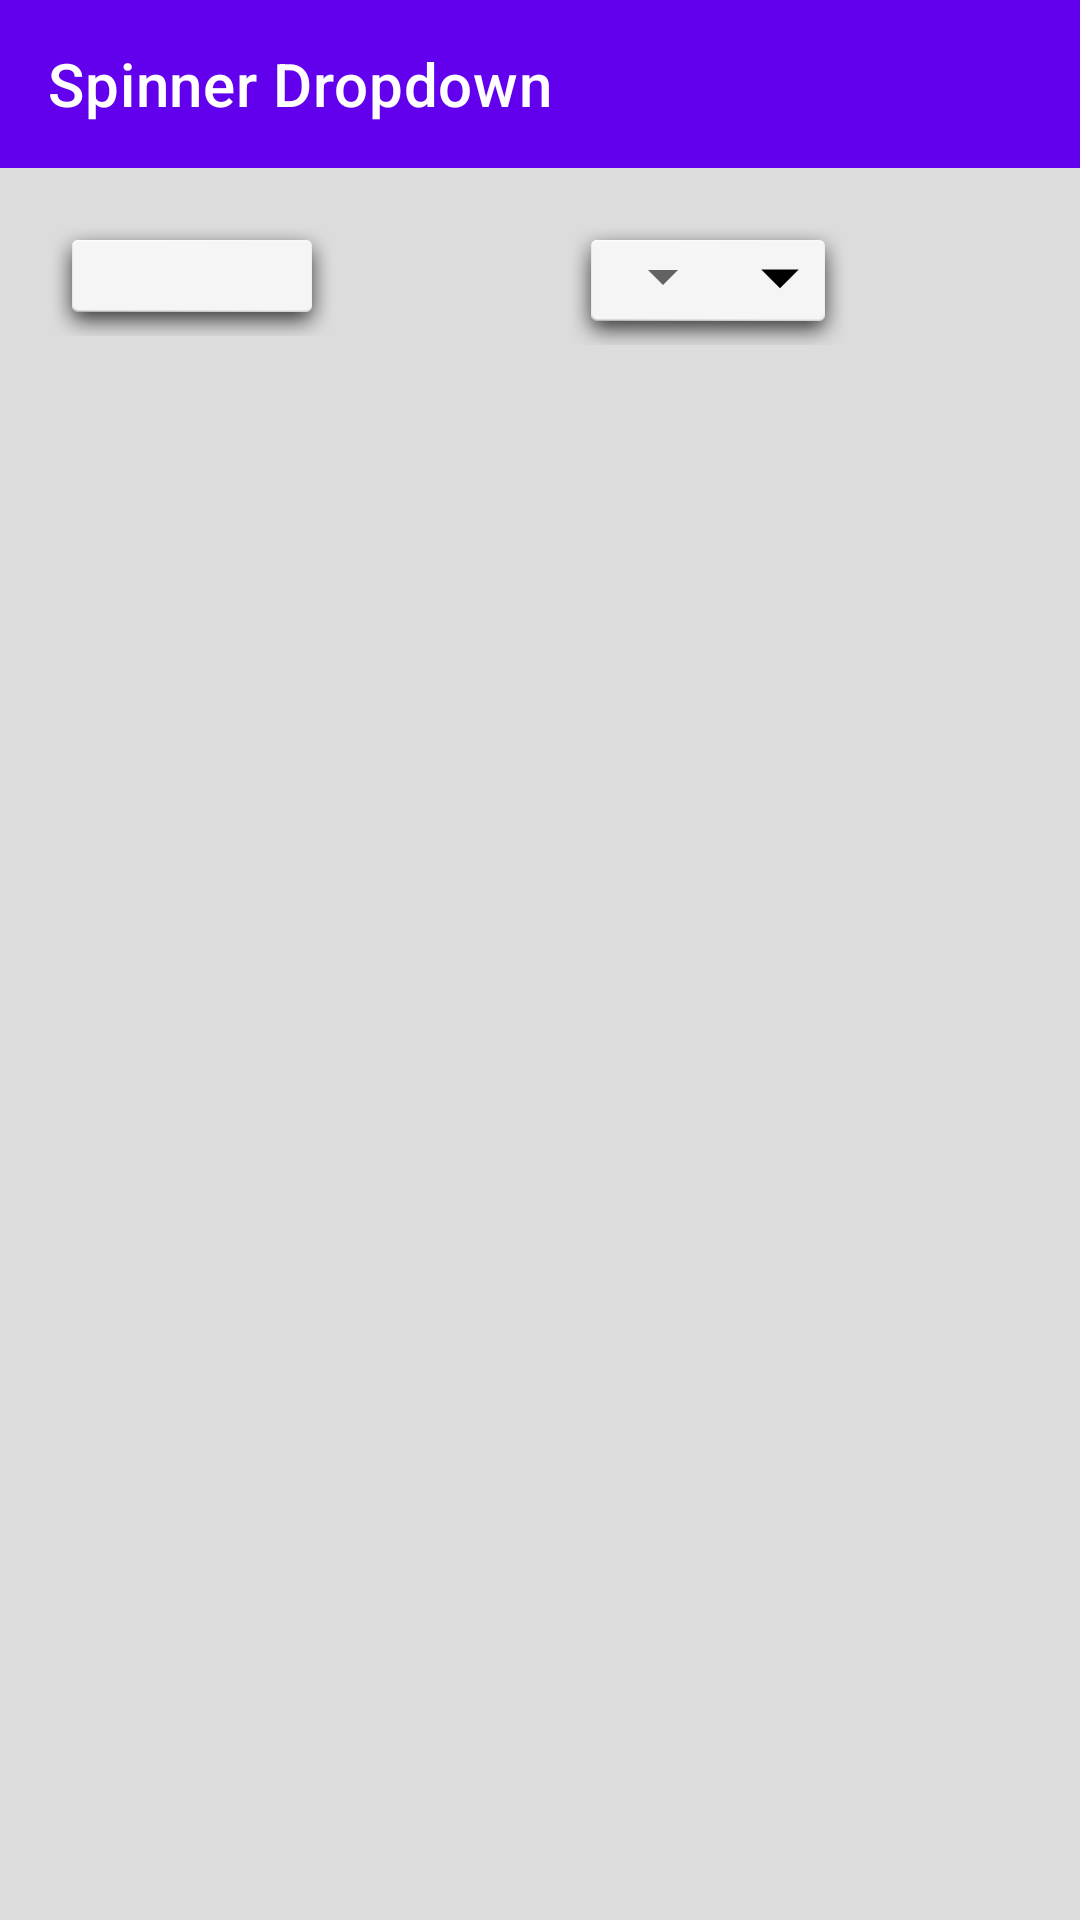

Named icons in this screenshot (1080px x 1920px) and their centers, (x=x, y=y):
drop down arrow: (x=780, y=277)
